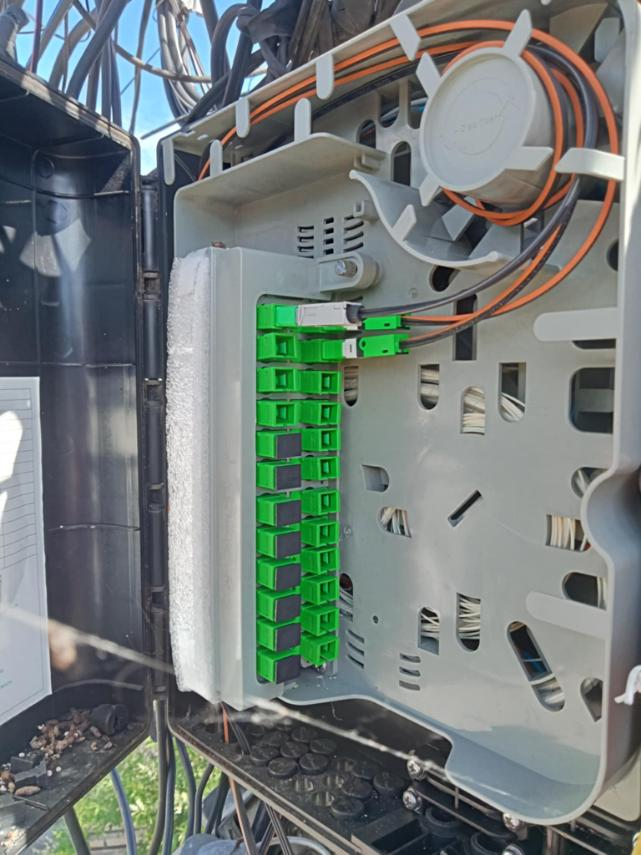no dust cap: (274, 334, 296, 357), (318, 402, 341, 424), (318, 610, 337, 636), (275, 403, 296, 426), (318, 522, 339, 545), (317, 641, 337, 665), (274, 368, 295, 390), (320, 372, 341, 394), (318, 492, 339, 514), (318, 579, 337, 603), (319, 430, 339, 452), (319, 457, 338, 480), (319, 551, 337, 574)
occupied: (276, 299, 366, 328), (322, 332, 411, 360), (322, 309, 409, 331)
vacant: (275, 654, 301, 686), (274, 562, 301, 592), (275, 531, 302, 559), (274, 595, 301, 622), (275, 432, 302, 459), (274, 625, 300, 651), (275, 466, 302, 489), (276, 500, 301, 524)
